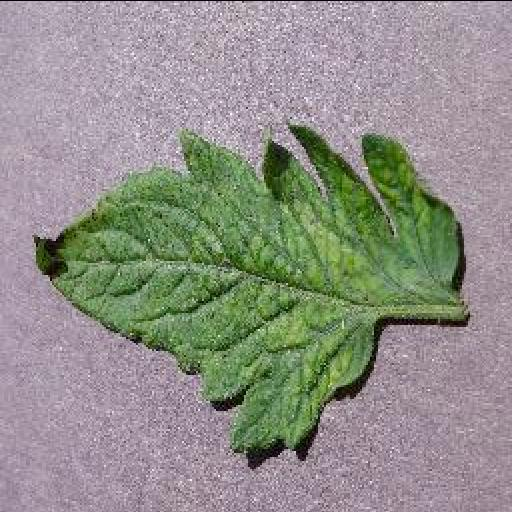disease_tomato: (29, 120, 463, 452)
